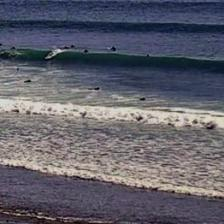surfer: (59, 45, 73, 49), (88, 87, 100, 91), (110, 46, 116, 51), (139, 97, 146, 101), (49, 51, 54, 56), (10, 46, 16, 50), (84, 50, 89, 54), (23, 80, 32, 82), (71, 44, 75, 48), (16, 68, 20, 72), (147, 54, 150, 57), (1, 44, 2, 46)
